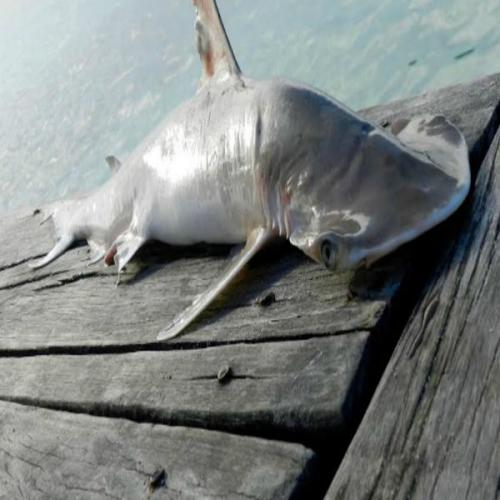shark-endangered: (25, 0, 473, 342)
